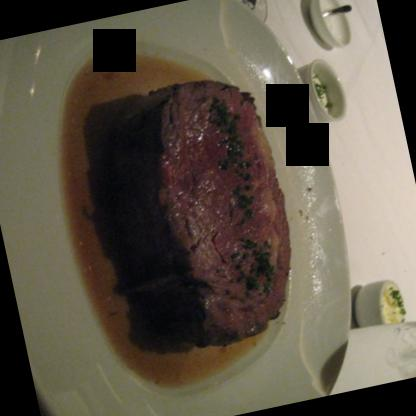beef: (74, 69, 310, 362)
